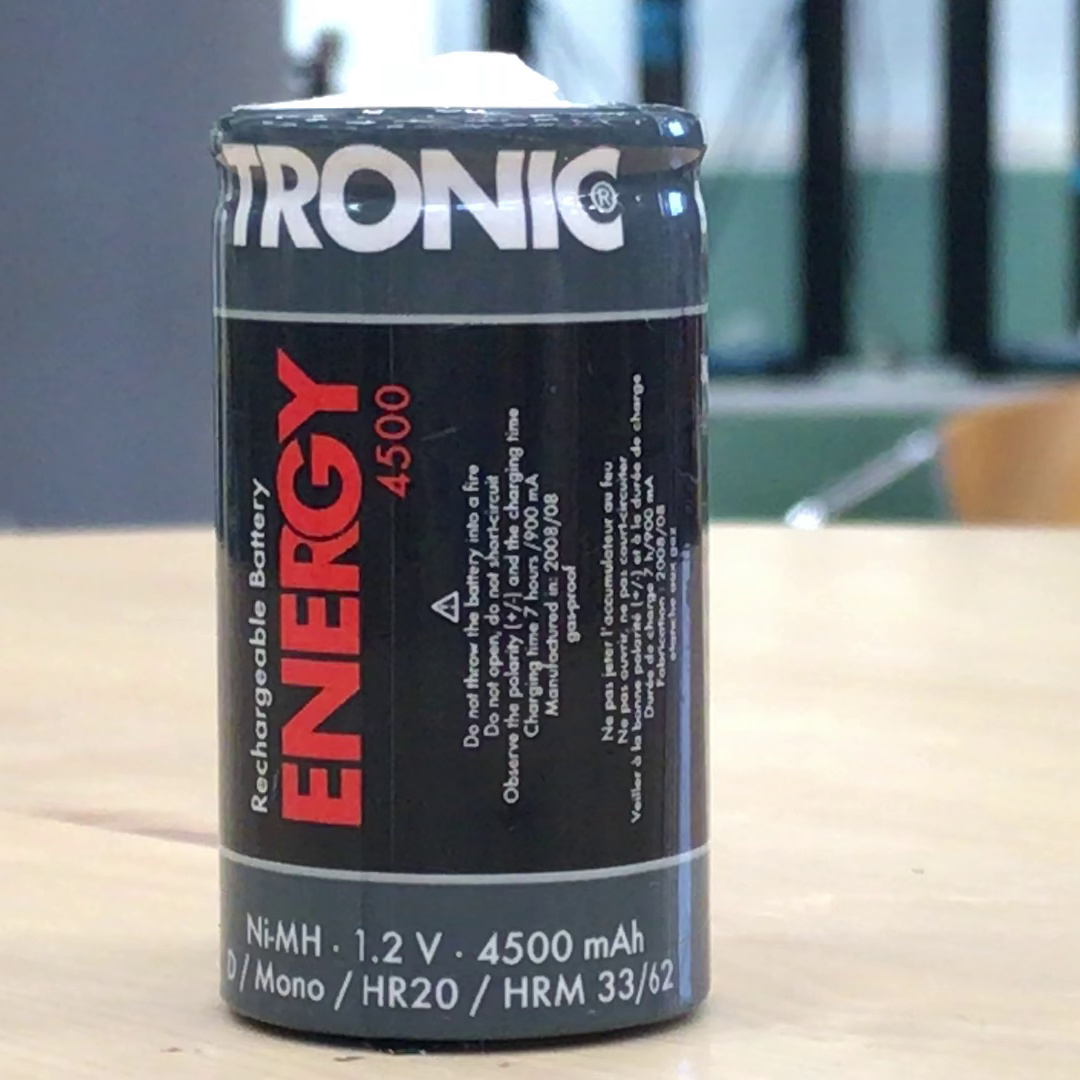keyword: (354, 969, 466, 1016)
